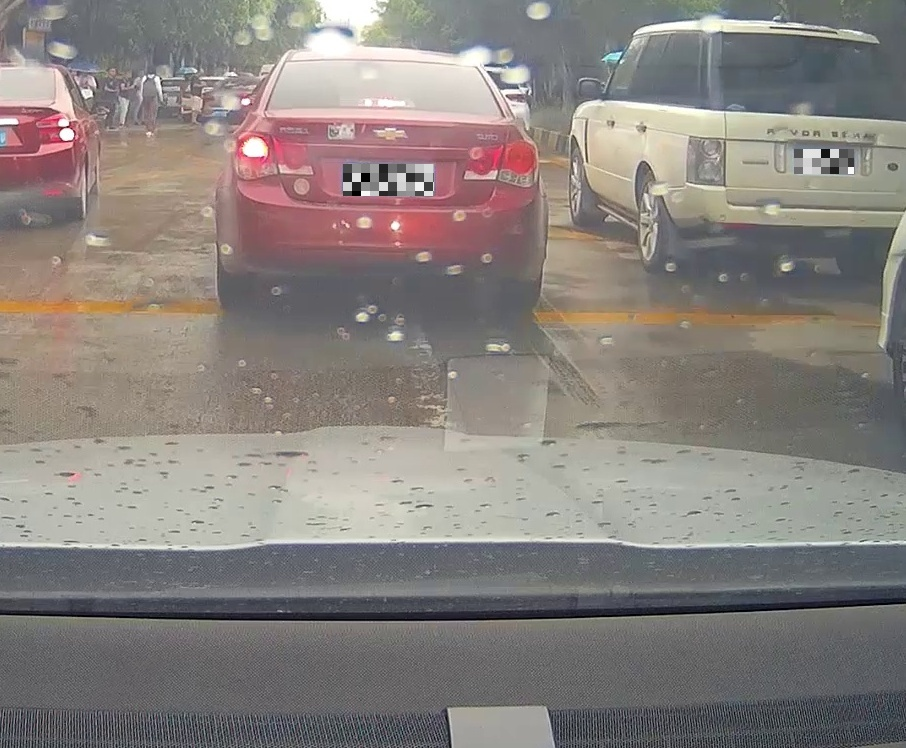L_light: (230, 131, 313, 181)
R_light: (462, 139, 538, 187)
T_light: (362, 98, 412, 107)
day-left: (215, 53, 548, 308)
plate_1: (343, 164, 434, 196)
plate_2: (794, 149, 854, 174)
